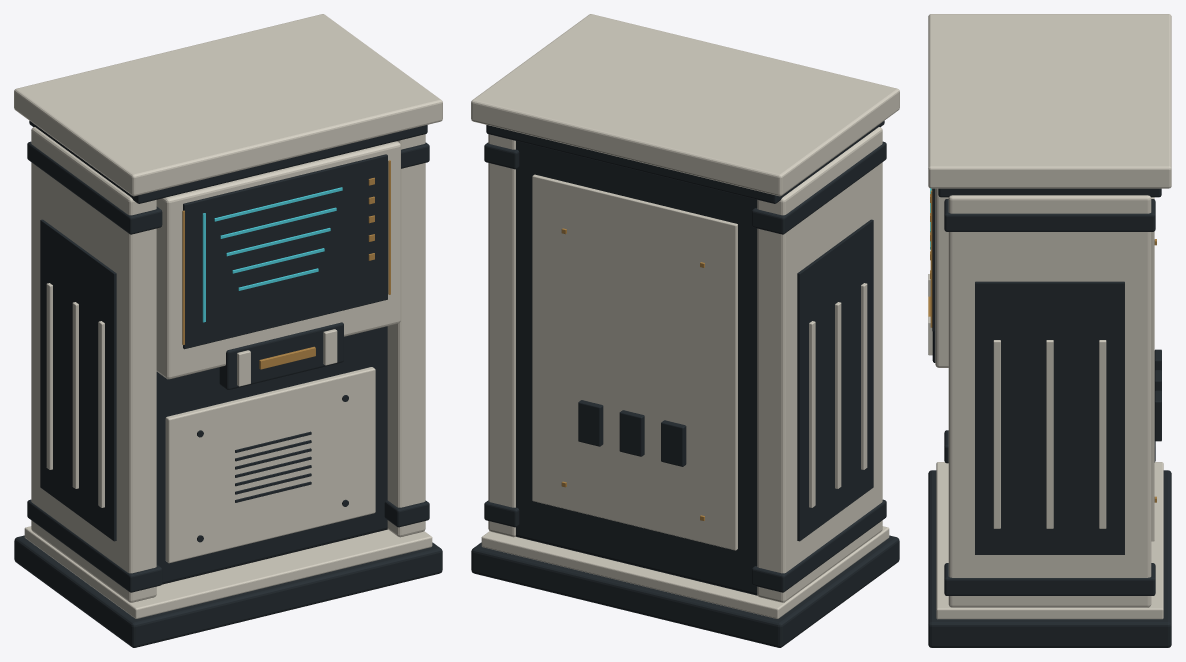
Rendered from SM_Aurelion_KIT_Z04Receiver.fbx.
3 renders of one model, left to right at view 1: azimuth 30°, elevation 25°; view 2: azimuth 150°, elevation 25°; view 3: azimuth 270°, elevation 25°, orthographic.
Visible parts, largest first — view 1: SM_Aurelion_KIT_Z04Receiver; view 2: SM_Aurelion_KIT_Z04Receiver; view 3: SM_Aurelion_KIT_Z04Receiver.
Part boxes in pixels (box(x1,y1,x2,y2)): SM_Aurelion_KIT_Z04Receiver: box(14, 14, 442, 647); SM_Aurelion_KIT_Z04Receiver: box(471, 14, 899, 647); SM_Aurelion_KIT_Z04Receiver: box(928, 14, 1171, 647).
Size of the model in its own units: 90 by 60 by 131.
